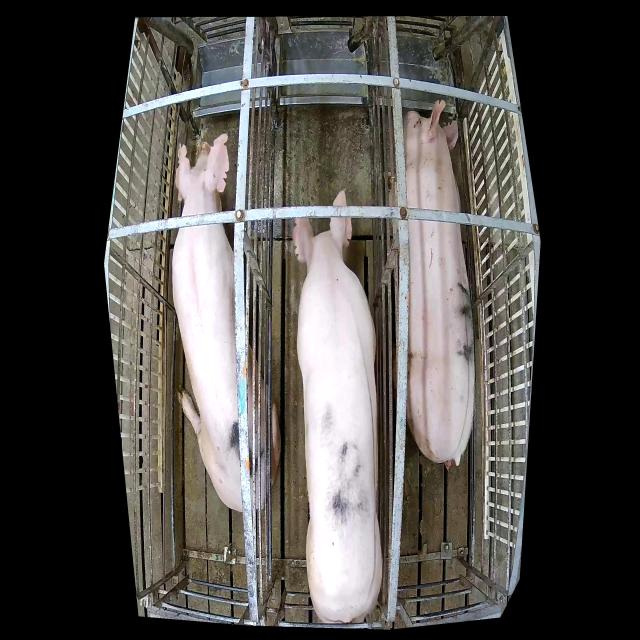pig: (172, 135, 279, 512), (293, 190, 383, 622), (402, 100, 475, 468)
